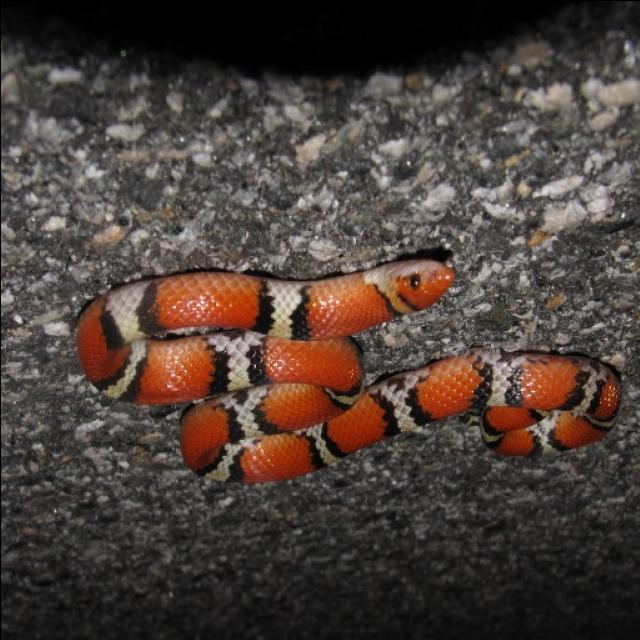snake: (60, 231, 628, 503)
